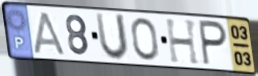8: (64, 13, 91, 57)
A: (33, 11, 67, 57)
H: (164, 18, 202, 66)
O: (129, 16, 161, 63)
P: (198, 19, 229, 68)
U: (94, 11, 130, 63)
